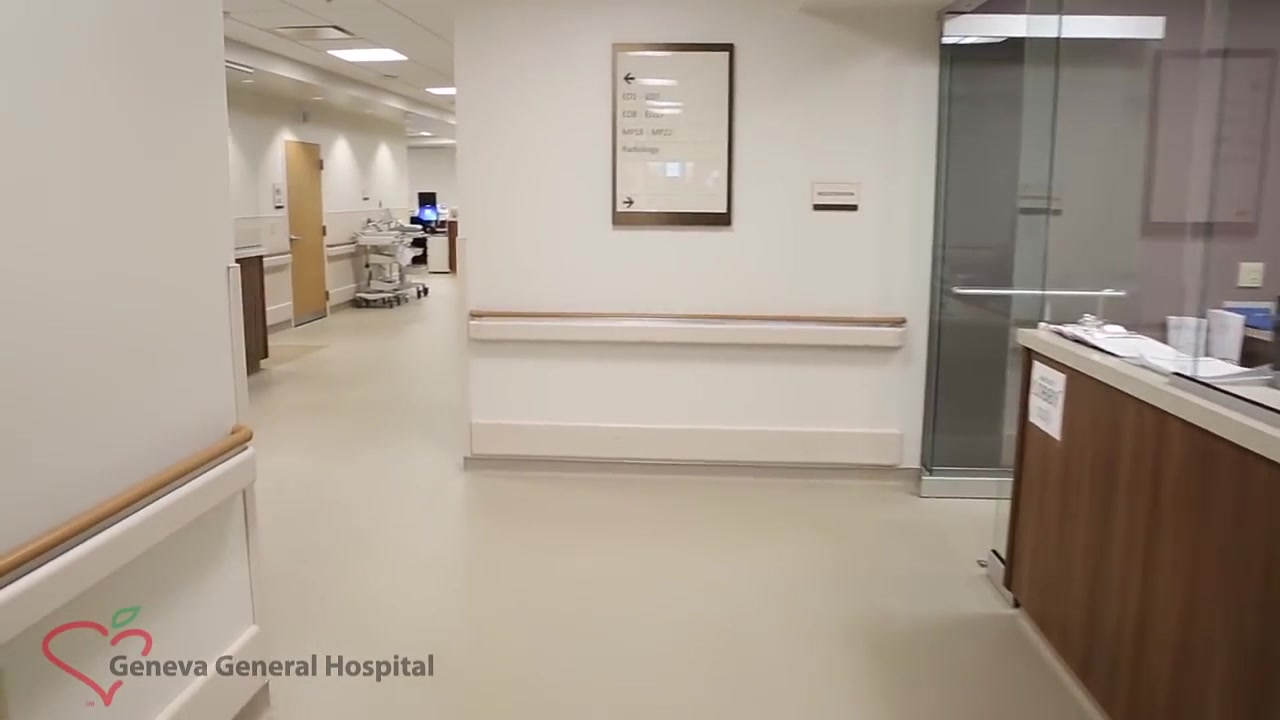computer: (418, 192, 436, 209)
counter: (1015, 327, 1279, 719)
countertop: (1015, 327, 1279, 465)
door_handle: (288, 235, 301, 240)
hallway_assist_bar: (1, 423, 256, 647), (466, 310, 907, 348), (951, 287, 1131, 297)
